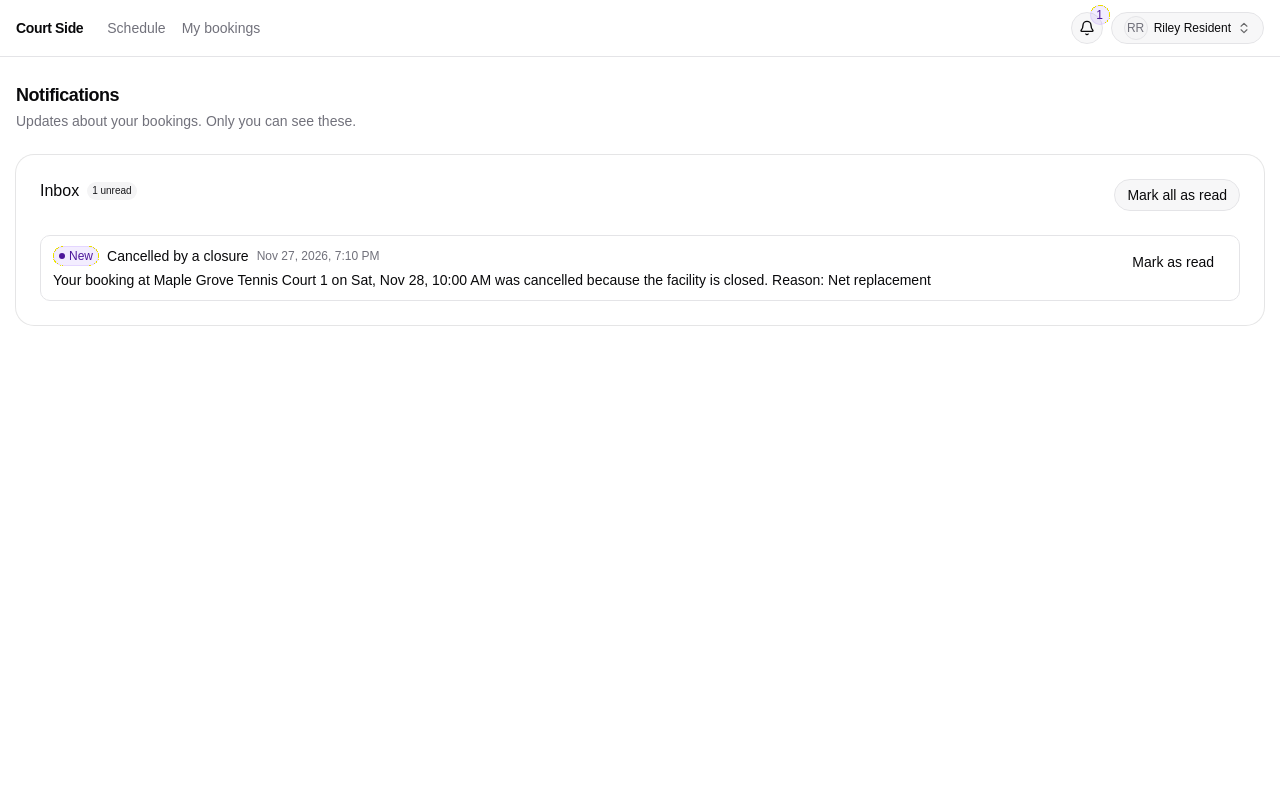
Scenario: notifications › marks everything read at once
The image size is (1280, 800).
Click the button "Mark all as read" at (1177, 195), box [1114,179,1240,211]
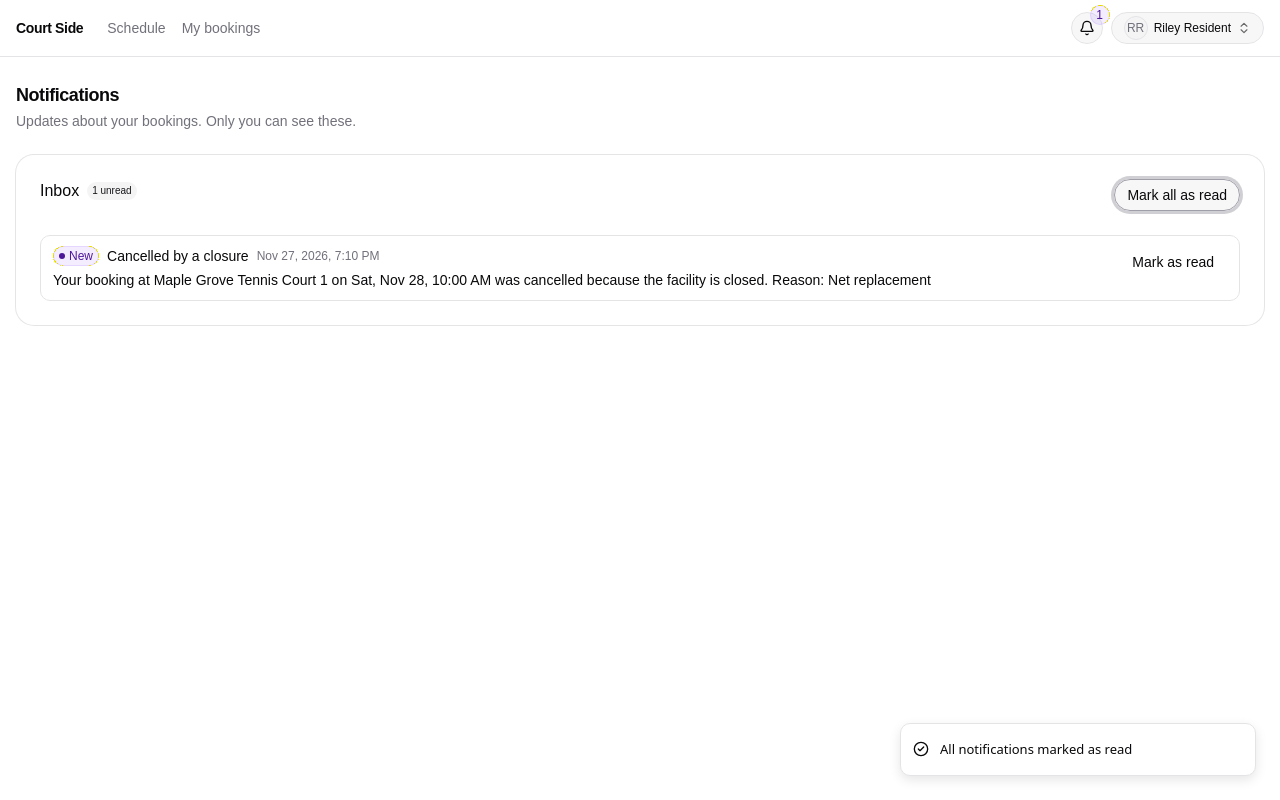
Expected: the text "All notifications marked as read" is shown, [940,740,1132,759]
